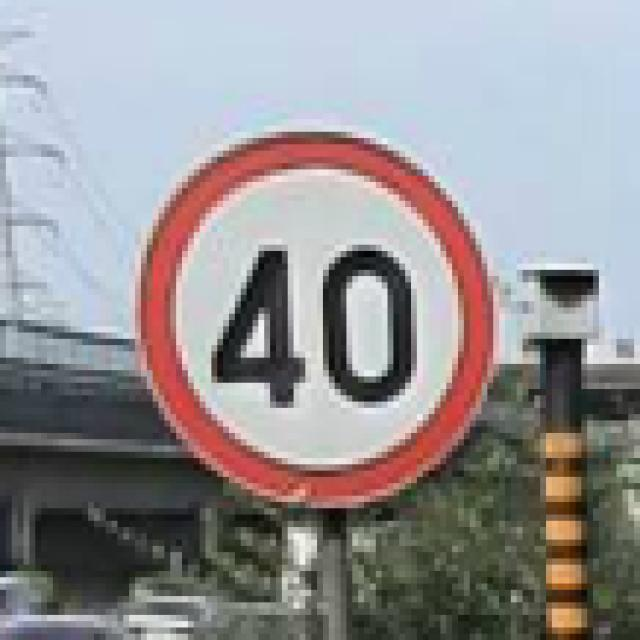speed limit 40: (134, 128, 493, 509)
